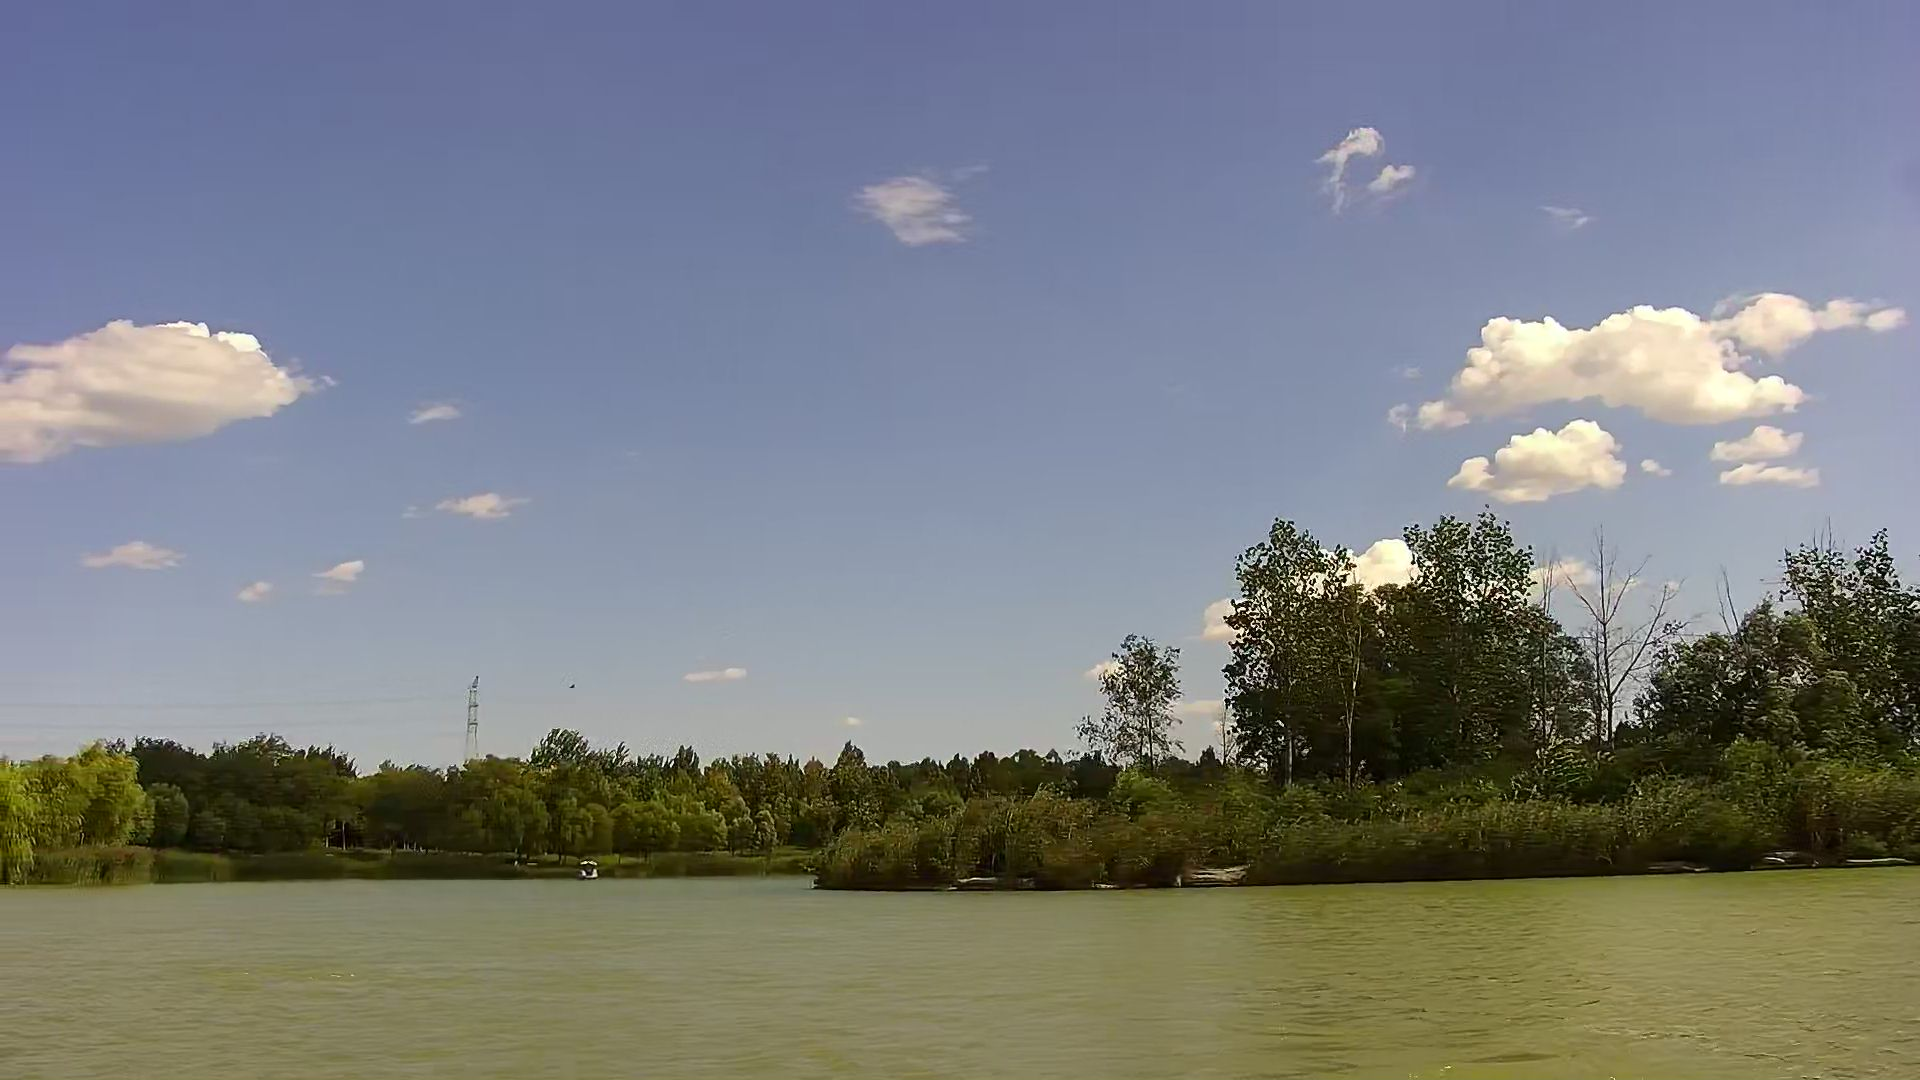rock: (1175, 864, 1247, 887), (945, 876, 1027, 887)
